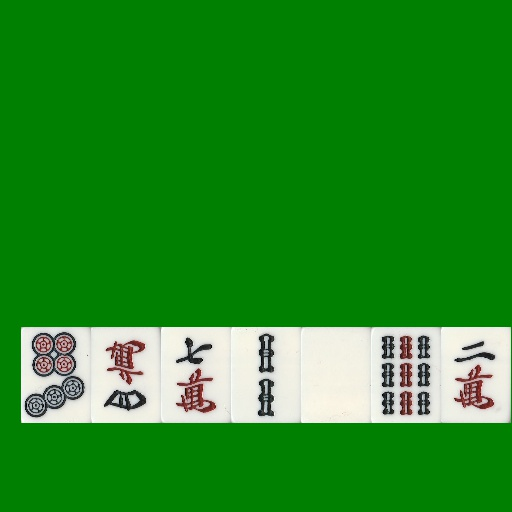2m: (441, 327, 511, 423)
2s: (231, 327, 301, 423)
4m: (91, 327, 161, 423)
7m: (161, 327, 231, 423)
7p: (21, 327, 91, 423)
9s: (371, 327, 441, 423)
white: (301, 327, 371, 423)
